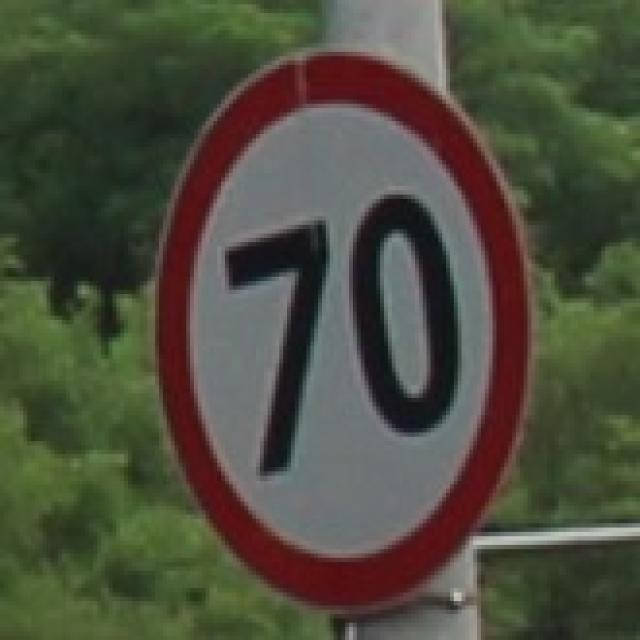Speed Limit -70-: (223, 188, 472, 483)
